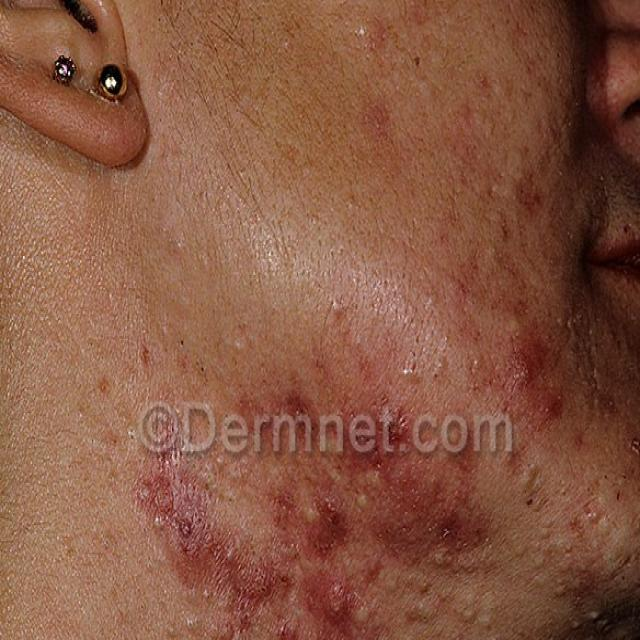Acne: (106, 350, 488, 640), (468, 196, 590, 446), (358, 0, 412, 92)
